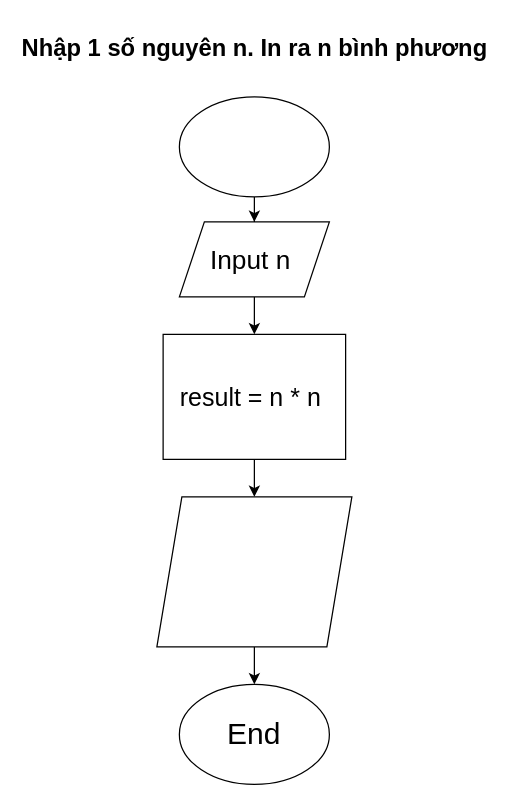
Some shapes in this 508 by 806 pixel diagram are drawn without their labels. Here are the shapes that lost their labels. From the top down, the centre of each, then its label:
At point 253,146: "Start".
At point 254,571: "Output result.".
